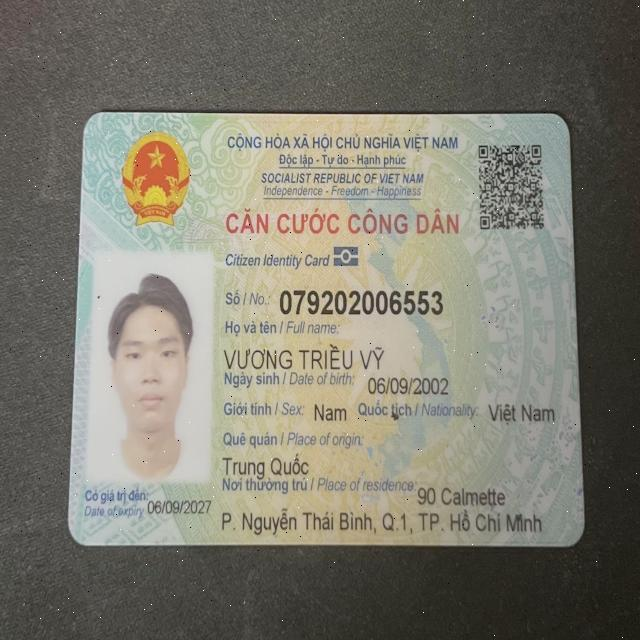current_place: (219, 507, 542, 540), (416, 481, 507, 511)
dob: (366, 373, 450, 398)
expire_date: (144, 494, 217, 517)
gender: (312, 397, 349, 428)
id: (277, 284, 444, 318)
name: (221, 340, 387, 375)
nationality: (484, 396, 557, 427)
origin_place: (222, 449, 312, 478)
qr: (475, 138, 556, 241)
